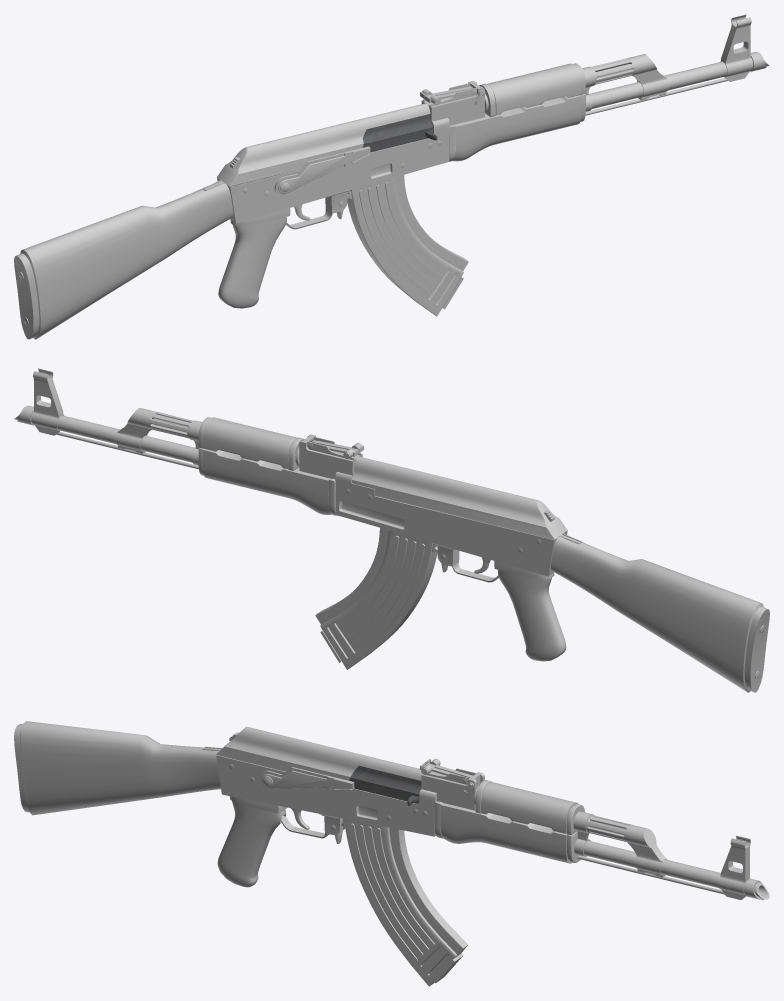
Rendered from Classical AK-47.fbx.
3 views of the same model, one above another, from view 1: azimuth 30°, elevation 25°; view 2: azimuth 150°, elevation 25°; view 3: azimuth 330°, elevation 25° (orthographic).
Parts seen in each view (by area): view 1: AK 47, Magazine Empty, Lock; view 2: AK 47, Magazine Empty; view 3: AK 47, Magazine Empty, Lock.
Boxes of the visible parts, <box> form: AK 47: <box>14,14,769,339</box>; Magazine Empty: <box>347,175,468,316</box>; Lock: <box>362,114,437,152</box>; AK 47: <box>14,368,769,692</box>; Magazine Empty: <box>315,528,437,669</box>; AK 47: <box>14,721,769,900</box>; Magazine Empty: <box>341,818,468,986</box>; Lock: <box>349,766,421,805</box>.
Size of the model in its own units: 96.21 by 27.05 by 4.78.
